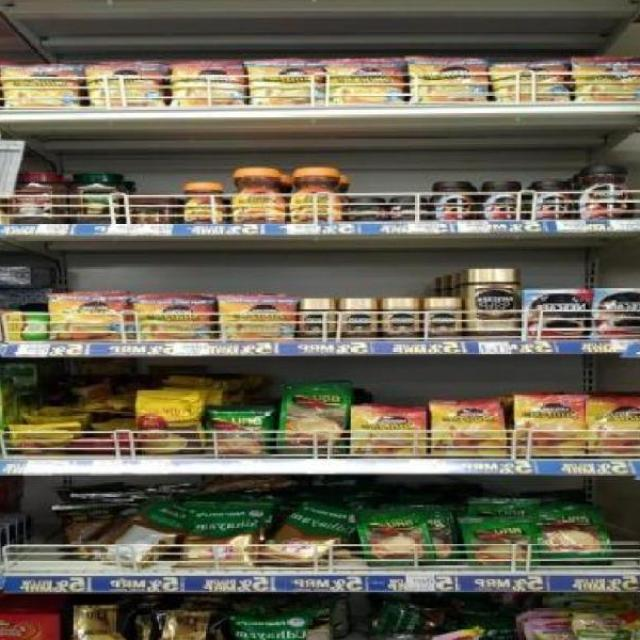Coffee: (515, 397, 587, 456), (433, 403, 505, 458), (350, 407, 427, 456), (466, 268, 518, 340), (169, 61, 249, 105), (55, 295, 128, 341), (327, 59, 400, 104), (577, 163, 634, 220), (287, 166, 346, 221), (230, 167, 289, 222), (5, 66, 82, 108), (524, 290, 591, 338), (412, 60, 486, 103), (221, 298, 295, 341), (250, 60, 321, 104), (137, 299, 213, 340), (91, 65, 162, 106), (591, 400, 640, 458), (496, 61, 566, 101), (577, 58, 640, 99), (594, 287, 640, 339), (433, 179, 477, 221), (482, 179, 526, 220), (530, 178, 575, 218), (181, 182, 226, 222), (423, 297, 463, 339), (298, 299, 336, 342), (340, 298, 378, 340), (382, 299, 419, 340), (388, 195, 429, 220), (345, 196, 386, 221)
